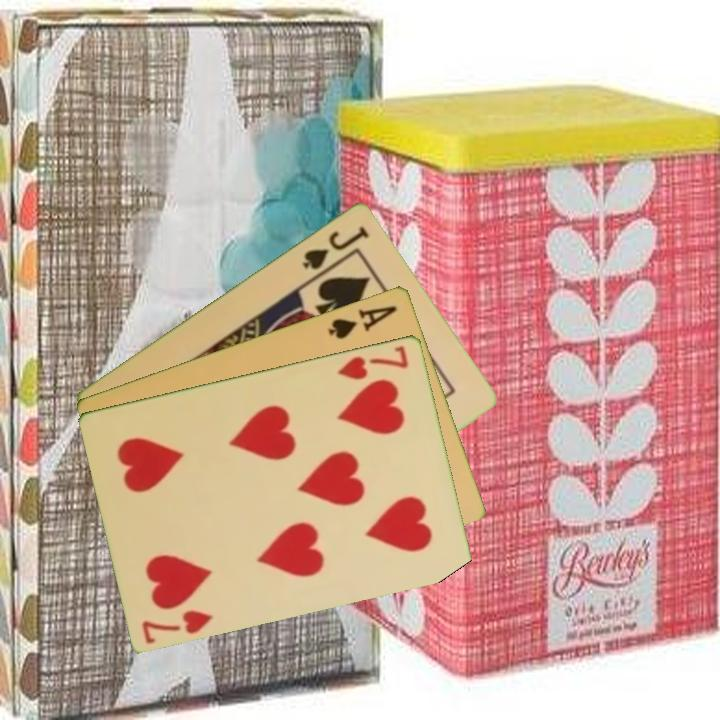7h: (334, 341, 412, 382), (139, 606, 217, 647)
As: (325, 301, 400, 342)
Js: (298, 221, 372, 272)
